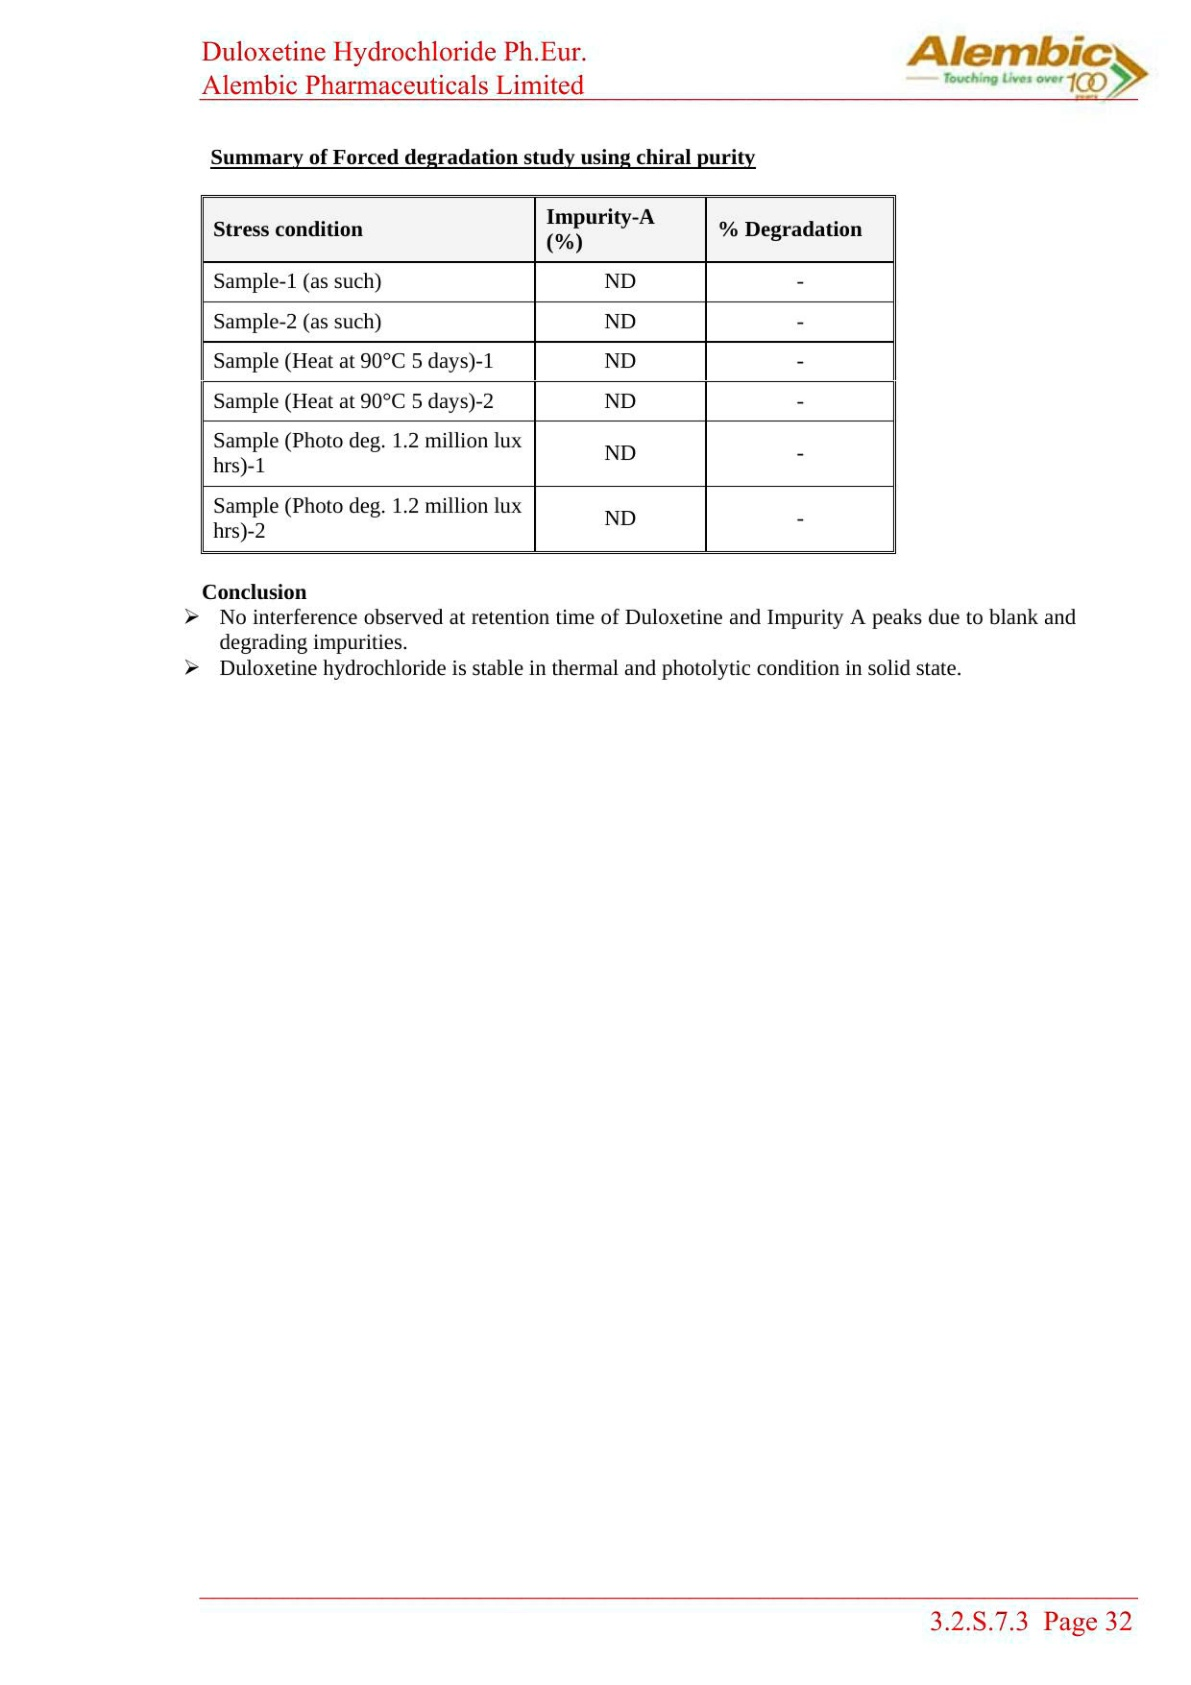full_lined: (198, 193, 897, 554)
